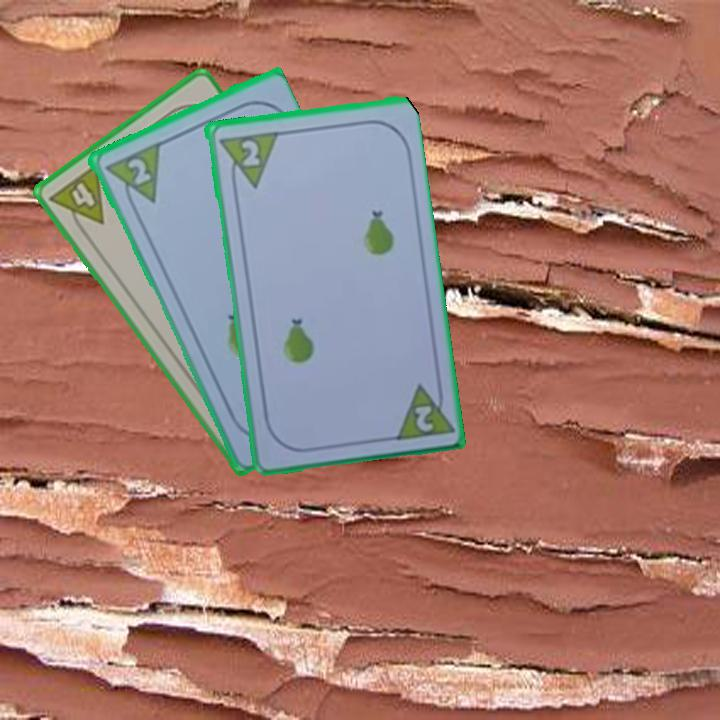2p: (389, 376, 454, 443), (123, 154, 154, 188), (237, 136, 263, 169)
4p: (45, 160, 107, 239)
